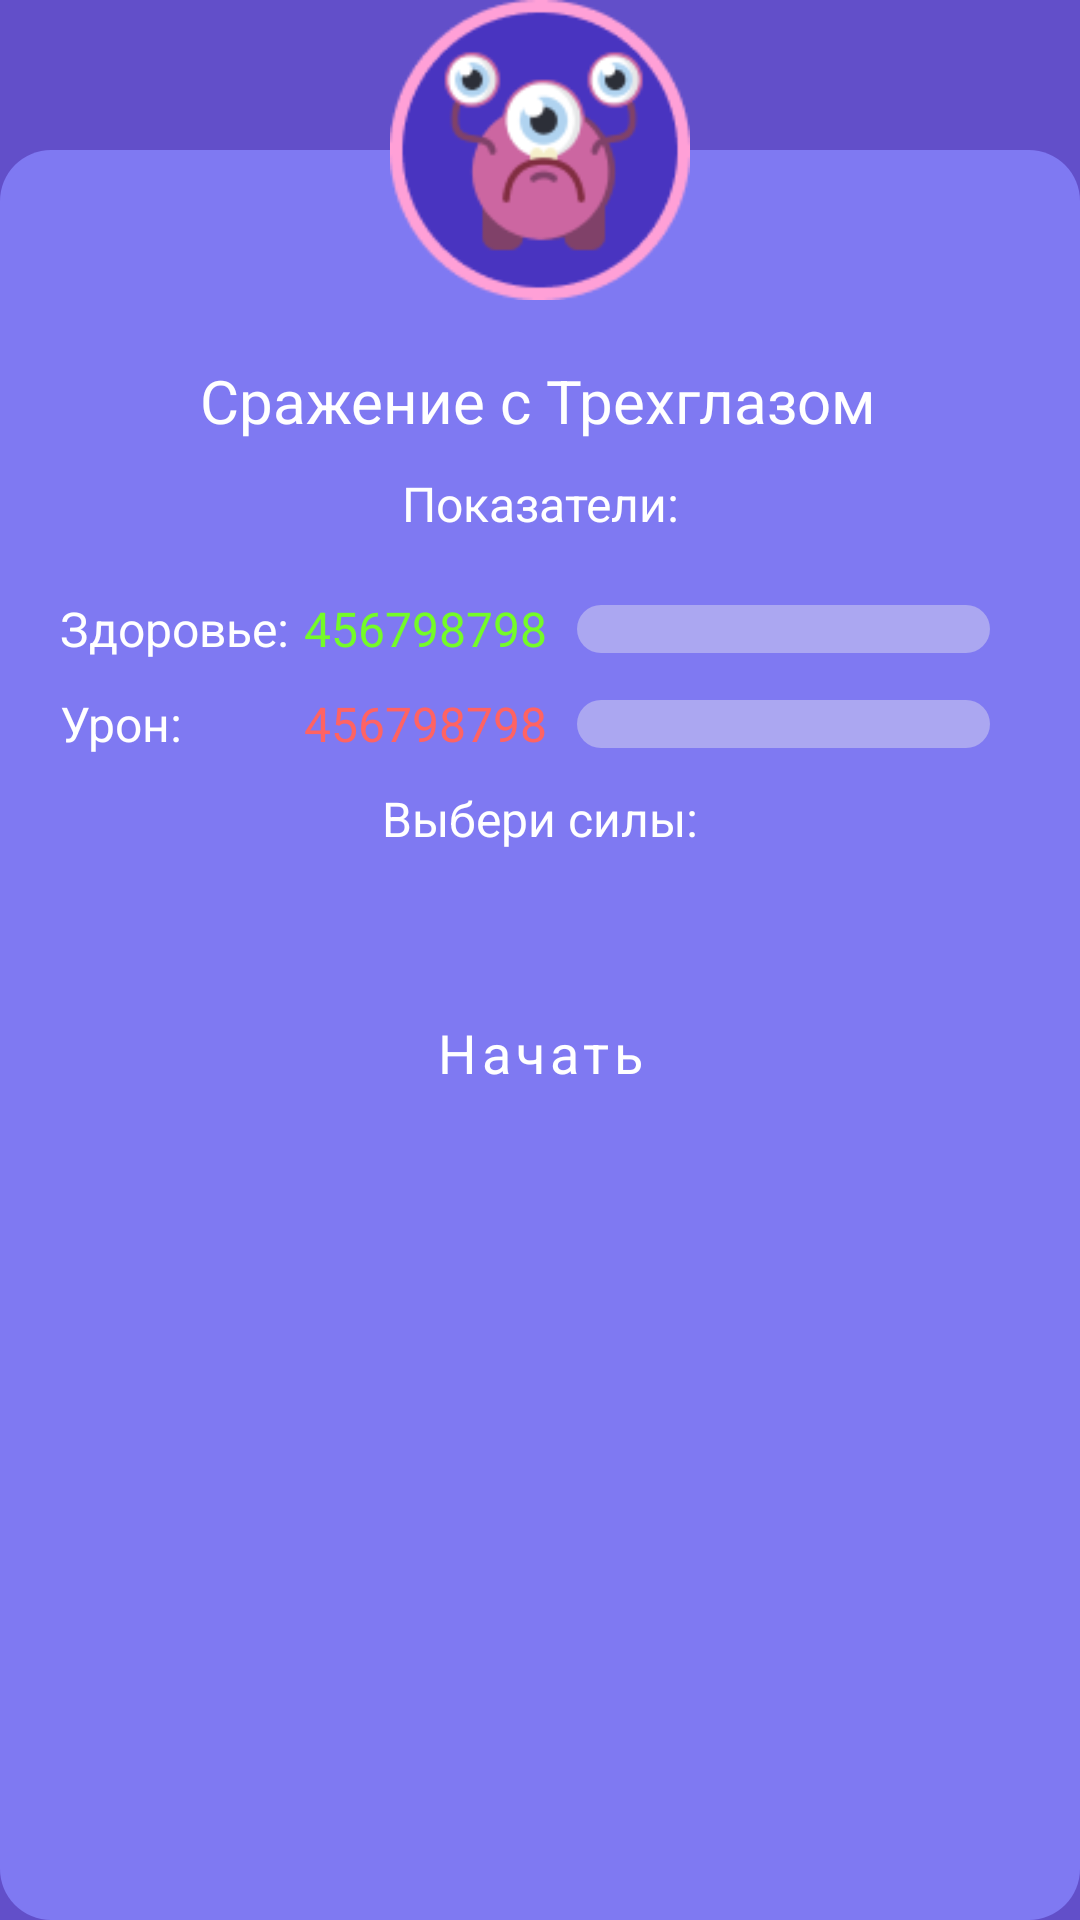

Icons on this 1080x1920 Android screen, each with the point to tap as (x,y):
pic enemy: (540,150)
